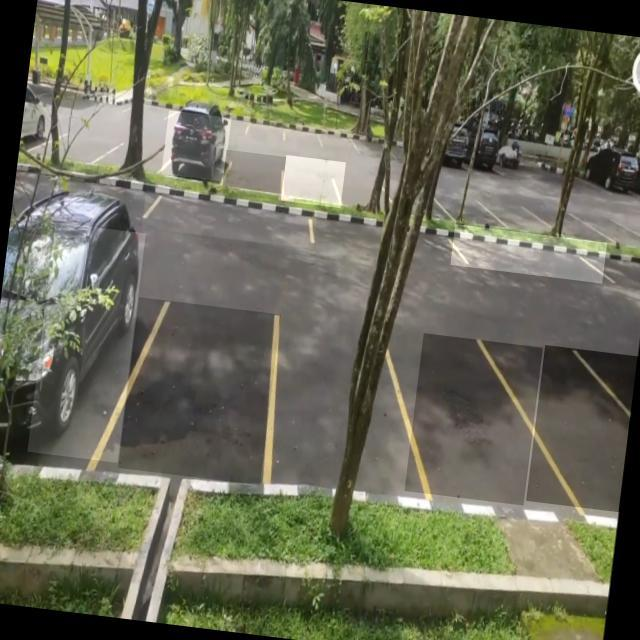empty: (260, 310, 423, 503), (118, 296, 282, 486), (403, 332, 542, 506), (526, 344, 638, 512), (141, 184, 318, 249), (449, 224, 606, 284), (280, 154, 346, 208), (222, 150, 288, 193)
occupied: (26, 222, 146, 462), (160, 110, 232, 181)
